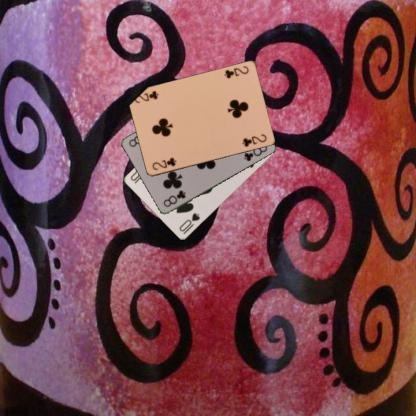10s: (176, 210, 202, 235)
2c: (150, 154, 178, 172), (221, 64, 250, 80)
8c: (161, 187, 187, 208)
